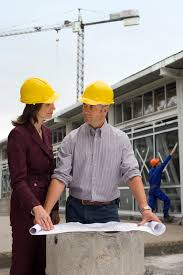hard hat: (18, 77, 59, 104), (78, 81, 115, 105), (150, 158, 159, 165)
